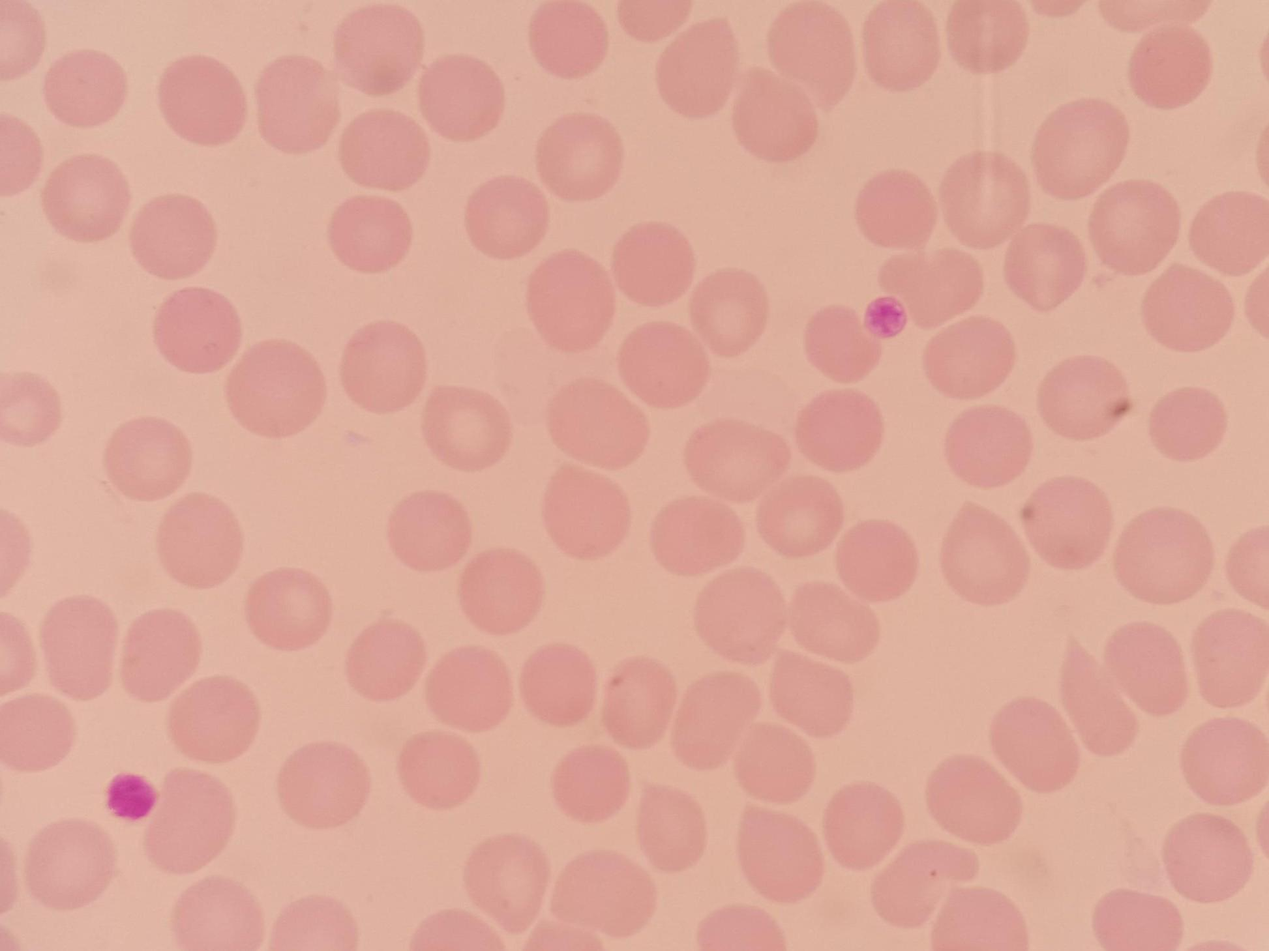Uninfected: (546, 374, 651, 470), (1056, 640, 1141, 758), (228, 340, 329, 439), (1030, 100, 1131, 199), (767, 2, 853, 116), (941, 498, 1031, 605), (1116, 507, 1214, 605), (684, 415, 791, 504), (145, 766, 233, 874), (695, 566, 788, 668), (527, 249, 616, 355), (548, 850, 656, 937), (988, 695, 1079, 797), (253, 54, 343, 157), (940, 151, 1032, 251), (542, 463, 633, 564), (1161, 810, 1255, 905), (670, 672, 762, 769), (925, 753, 1022, 845), (1090, 179, 1180, 276), (1022, 476, 1112, 573), (25, 817, 117, 911), (1141, 261, 1235, 353), (881, 244, 985, 327), (276, 739, 371, 829), (462, 834, 548, 933), (658, 15, 739, 120), (168, 674, 261, 765), (334, 3, 425, 95), (158, 493, 245, 589), (733, 66, 820, 162), (1179, 716, 1269, 808), (620, 322, 714, 410), (1105, 622, 1189, 720), (339, 319, 427, 412), (734, 808, 820, 903), (1187, 609, 1269, 708), (156, 57, 246, 147), (41, 594, 116, 701), (535, 115, 625, 204), (650, 494, 745, 578), (1038, 353, 1129, 440), (457, 546, 545, 635), (924, 314, 1015, 400), (794, 387, 886, 472), (423, 382, 512, 469), (766, 648, 851, 739), (339, 109, 432, 192), (822, 778, 904, 872), (243, 565, 330, 653), (418, 53, 505, 141), (1128, 20, 1212, 111), (790, 580, 882, 663), (154, 287, 241, 374), (946, 403, 1034, 489), (754, 476, 844, 560), (121, 609, 202, 702), (862, 0, 942, 94), (46, 156, 131, 243), (463, 172, 548, 259), (105, 418, 193, 501), (168, 878, 267, 951), (131, 196, 216, 281), (835, 519, 921, 603), (611, 223, 696, 307), (1006, 221, 1085, 311), (597, 656, 675, 747), (385, 489, 471, 570), (431, 644, 510, 732), (691, 268, 768, 357), (736, 722, 817, 806), (853, 167, 935, 249), (637, 782, 710, 873), (929, 885, 1029, 951), (329, 194, 412, 273), (1190, 193, 1269, 276), (548, 744, 631, 823), (41, 51, 127, 127), (527, 0, 609, 79), (802, 302, 882, 382), (348, 618, 425, 701), (522, 642, 596, 728), (945, 0, 1028, 75), (397, 735, 480, 809), (0, 692, 76, 771), (1090, 889, 1185, 951), (1150, 387, 1225, 460), (271, 892, 357, 951), (0, 113, 45, 200)
